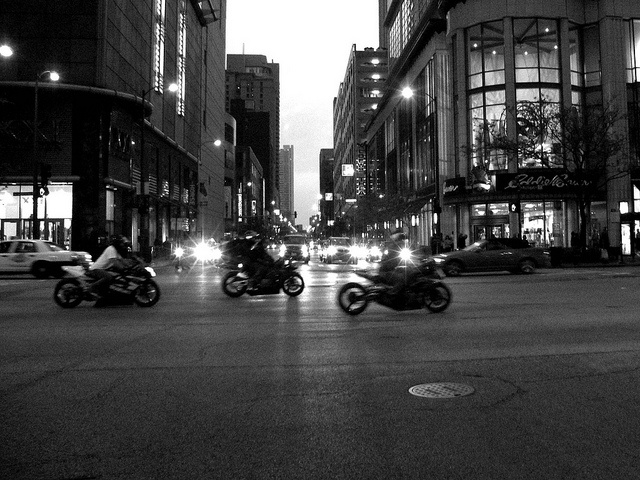non-vehicle: (336, 257, 455, 318), (52, 260, 160, 308), (221, 253, 304, 297)
